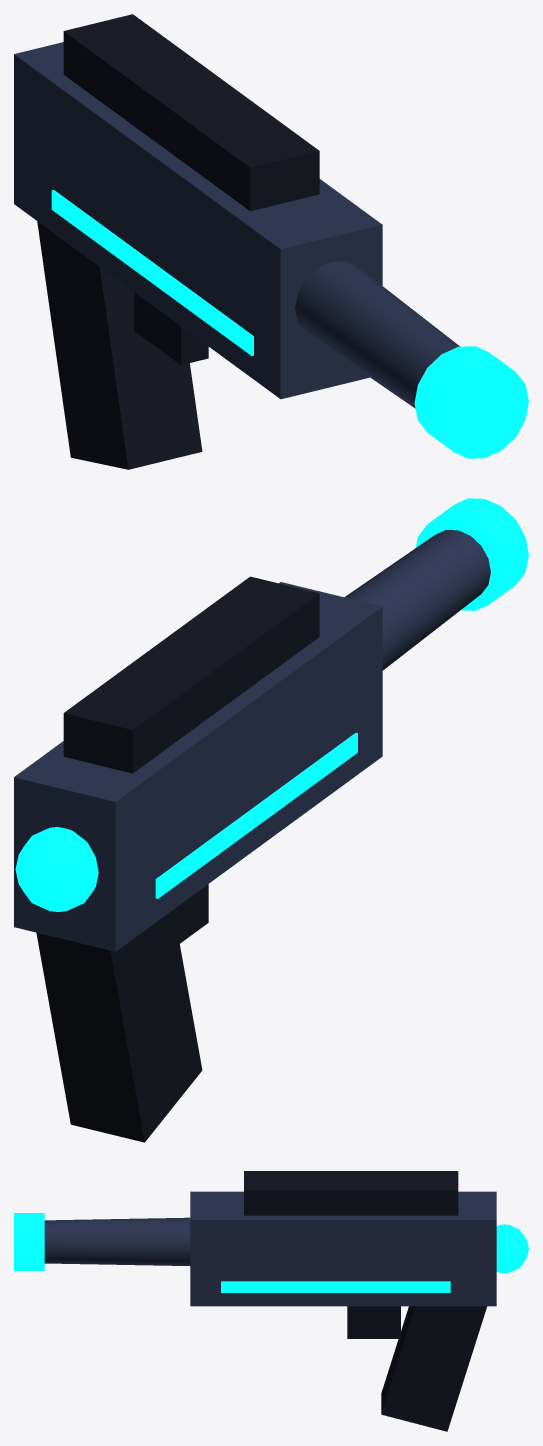
The model's file is blaster.glb.
3 views of the same model, one above another, from view 1: azimuth 30°, elevation 25°; view 2: azimuth 150°, elevation 25°; view 3: azimuth 270°, elevation 25° (orthographic). The views are drawn at different scales.
Size of the model in its own units: 0.046 by 0.1733 by 0.336.
